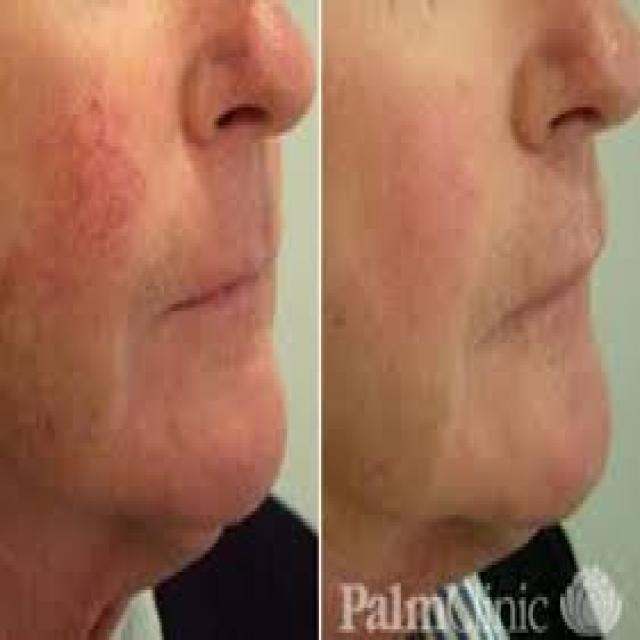Rosacea: (0, 70, 142, 317), (365, 90, 490, 338), (139, 321, 288, 504), (191, 134, 276, 266), (209, 0, 311, 95)
